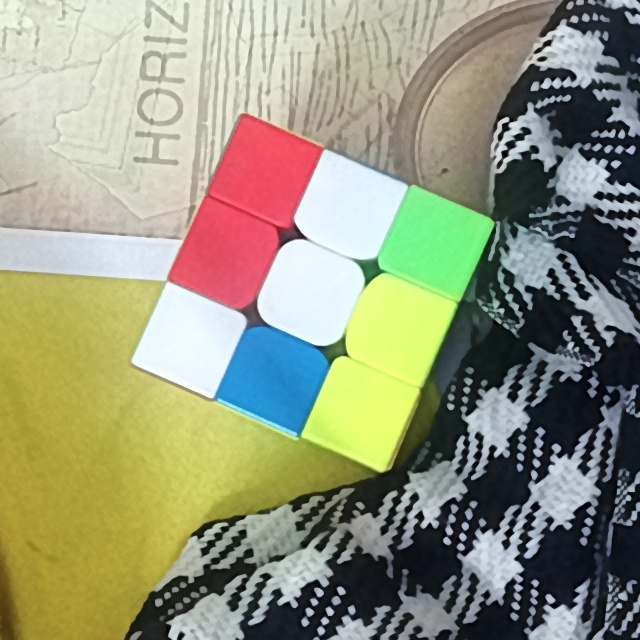tile: (239, 346, 308, 411), (360, 298, 432, 360), (400, 215, 469, 279), (315, 175, 382, 240), (328, 383, 395, 446), (159, 309, 222, 375), (278, 265, 345, 324), (194, 229, 260, 286), (229, 145, 297, 200)
